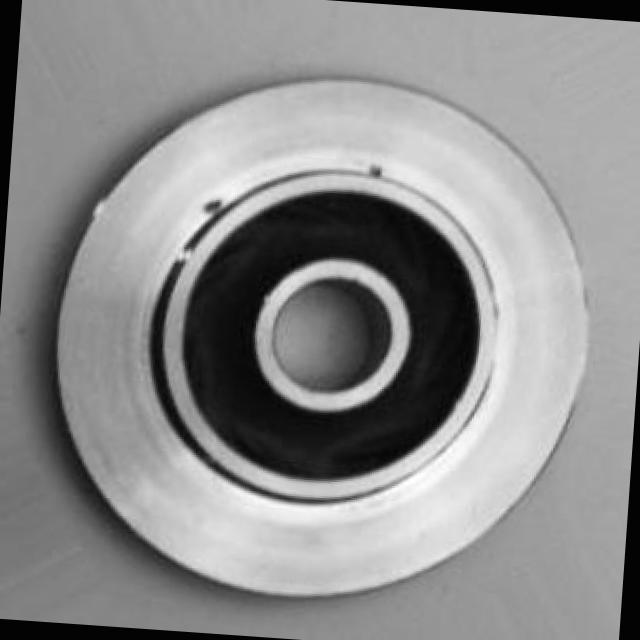Defect: (362, 158, 396, 185)
